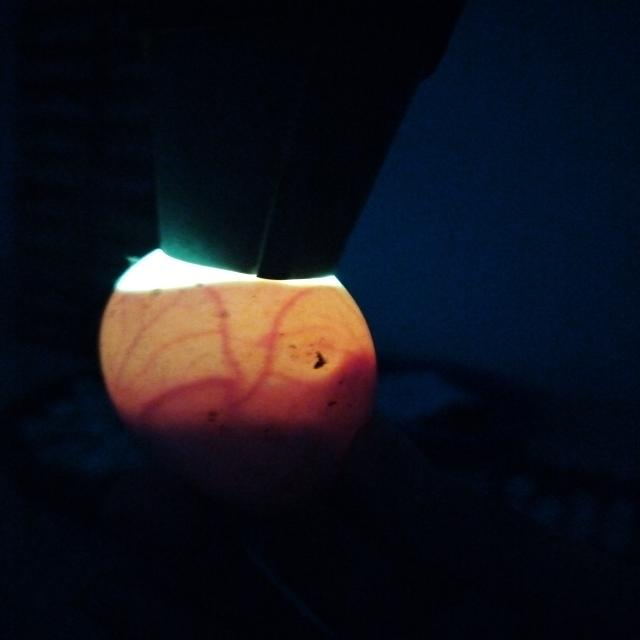Embriao: (130, 351, 381, 508)
